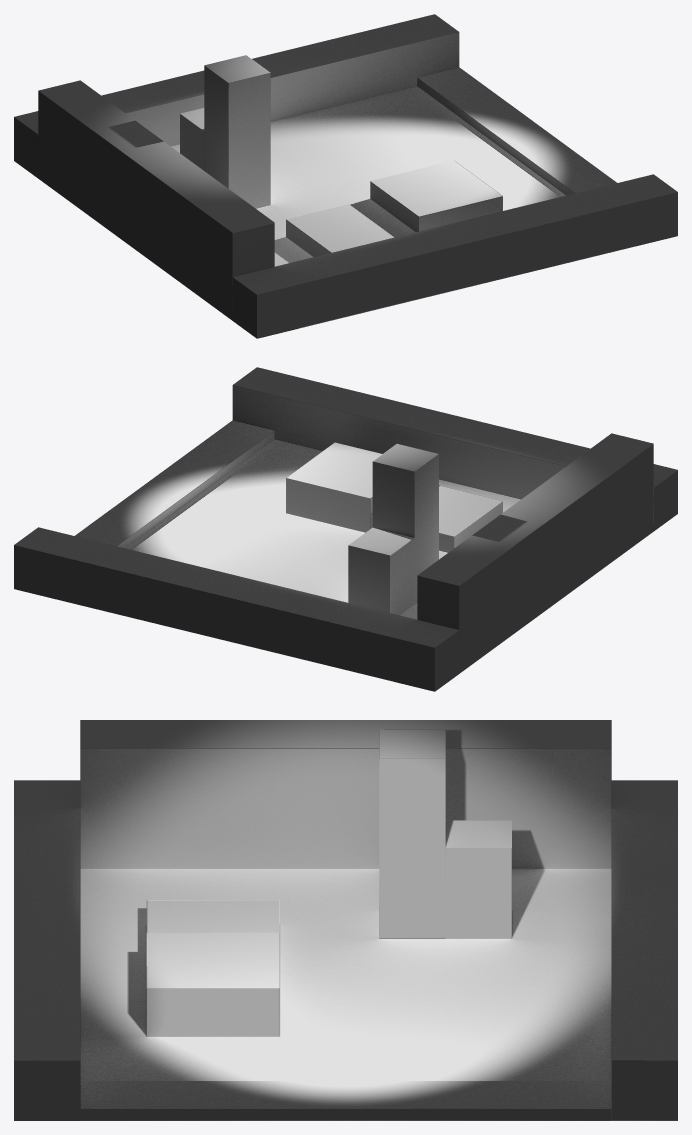
Rendered from simple10x10_2k.dae.
3 renders of one model, top to bottom at view 1: azimuth 30°, elevation 25°; view 2: azimuth 150°, elevation 25°; view 3: azimuth 270°, elevation 25°, orthographic. The views are drawn at different scales.
Parts seen in each view (by area): view 1: simple_world1; view 2: simple_world1; view 3: simple_world1.
Boxes of the visible parts, <box> form: simple_world1: <box>14,14,677,338</box>; simple_world1: <box>14,367,677,691</box>; simple_world1: <box>14,720,677,1120</box>.
Size of the model in its own units: 10 by 10 by 3.
1 material, 1 textured.
